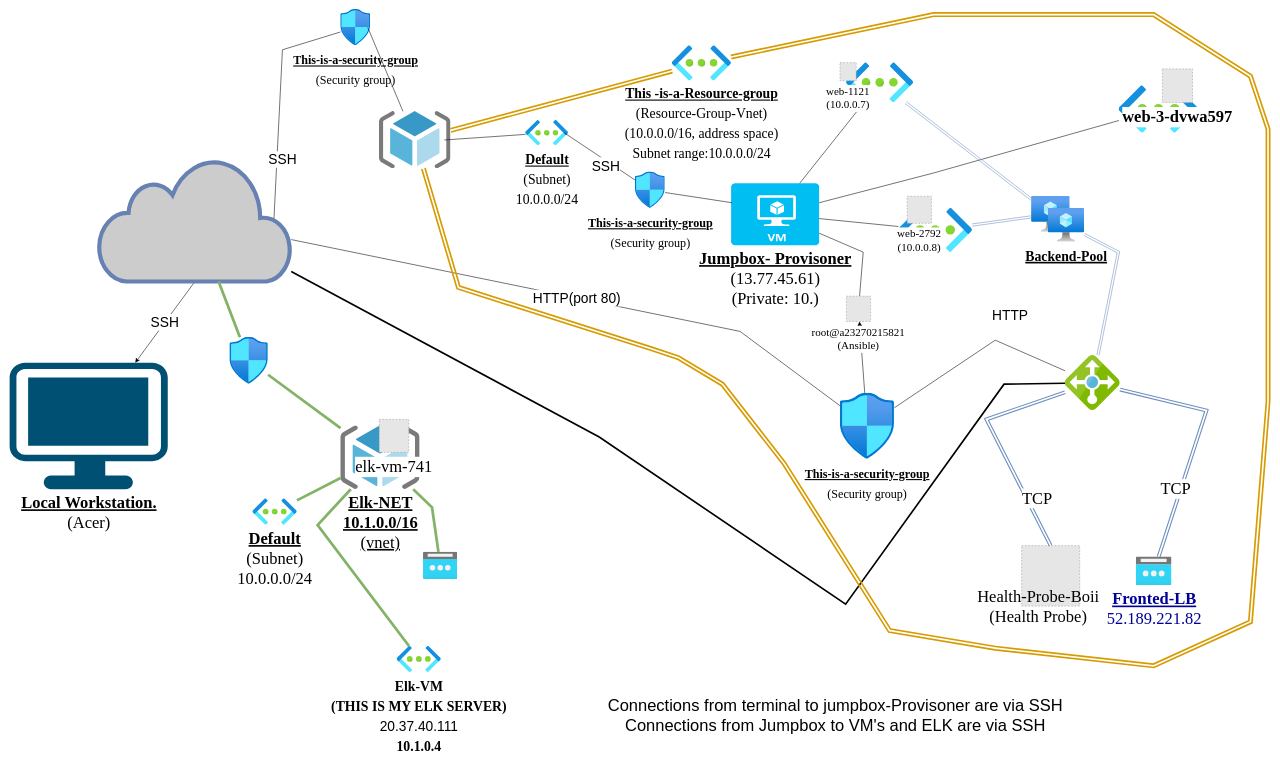
The diagram is 1280 pixels wide and 765 high, and some of its shapes have lost their labels. Grey dashed boxes stand in for pictures. The shapes that lost their labels are listed below. From the top down, each one's box as (x1, y1, x2, y2) in pixels, then its label:
(846, 62, 913, 102): (VM) Web1 root@3e018778e407 (52.189.221.82)
(1119, 85, 1198, 133): (VM) Web-3-DVWA (10.0.0.4) (Ansible)
(379, 111, 450, 168): This -is-a-Resource-group (Resource-Group) (10.0.0.0/16, address space)
(98, 157, 292, 282): Internet/Intranet
(898, 208, 972, 252): (VM) Web2 W/Docker ssh azdmin@10.0.0.8 (52.189.221.82)
(229, 337, 268, 384): Elk-VM-nsg (Security group)
(1065, 355, 1120, 410): This-is-a-Load-Balancer (Load balancer) ( 52.189.221.82)
(423, 552, 457, 579): Elk-VM ip
